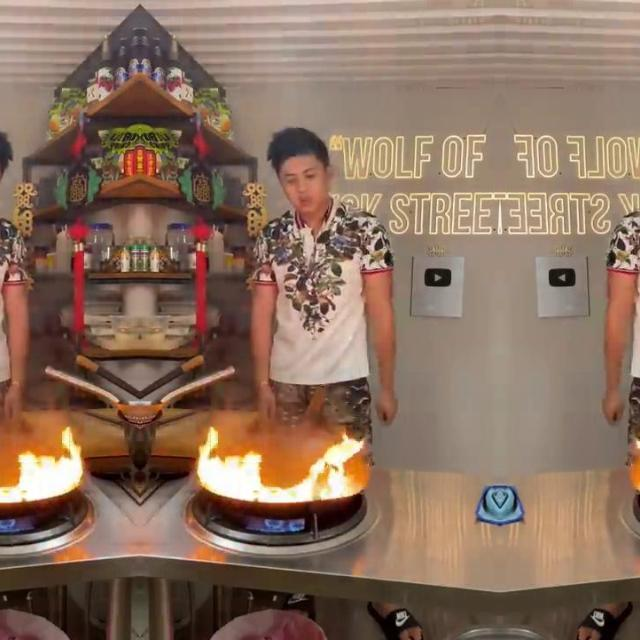smoke: (193, 418, 375, 504), (0, 418, 85, 503)
